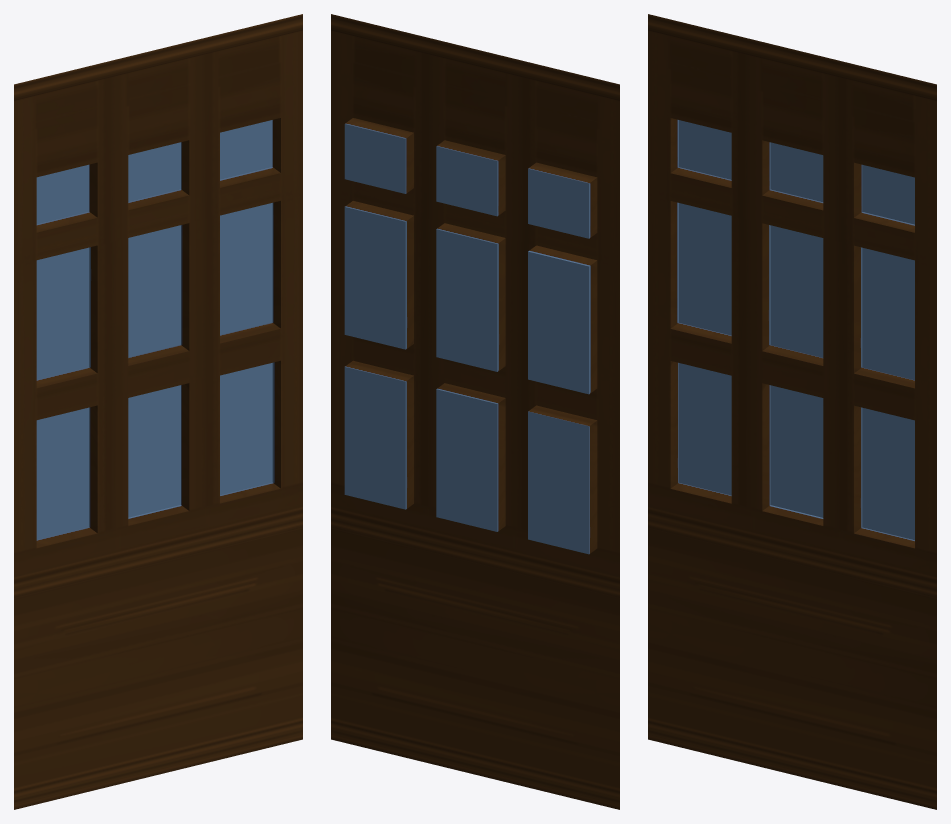
File: Window.fbx
3 views of the same model, side by side, from view 1: azimuth 30°, elevation 25°; view 2: azimuth 150°, elevation 25°; view 3: azimuth 330°, elevation 25° (orthographic).
Parts seen in each view (by area): view 1: Window; view 2: Window; view 3: Window.
Boxes of the visible parts, x1,y1,x2,y2 form: Window: (14, 14, 302, 809); Window: (331, 14, 619, 809); Window: (648, 14, 936, 809).
Size of the model in its own units: 500 by 1200 by 25.
